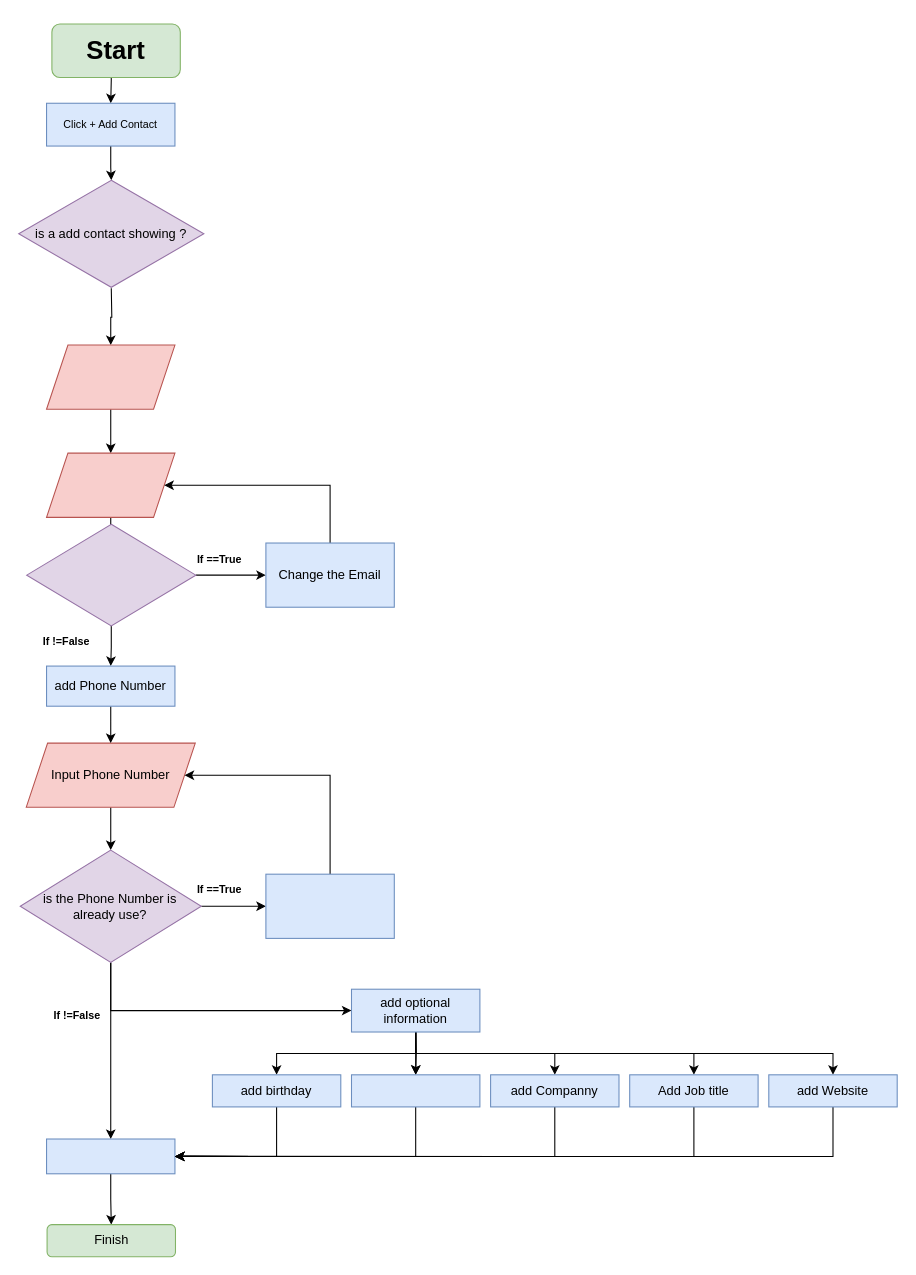
The diagram is 916 pixels wide and 1275 high, and some of its shapes have lost their labels. Each missing label, with the box of its shape:
add Address: (350, 1074, 480, 1107)
Change the Phone Number: (265, 873, 394, 938)
Input email: (45, 452, 175, 517)
Input Name: (45, 344, 175, 409)
is the Email already use?: (26, 523, 196, 626)
Submit Create Contact: (45, 1138, 175, 1174)
